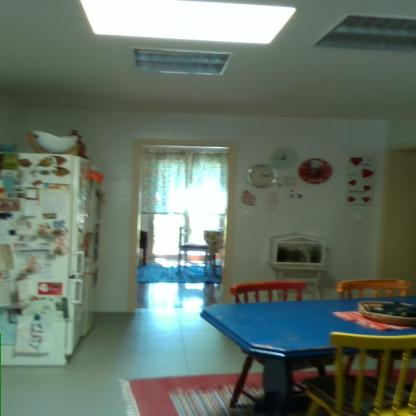closed: (372, 134, 416, 292)
open: (125, 142, 246, 310)
